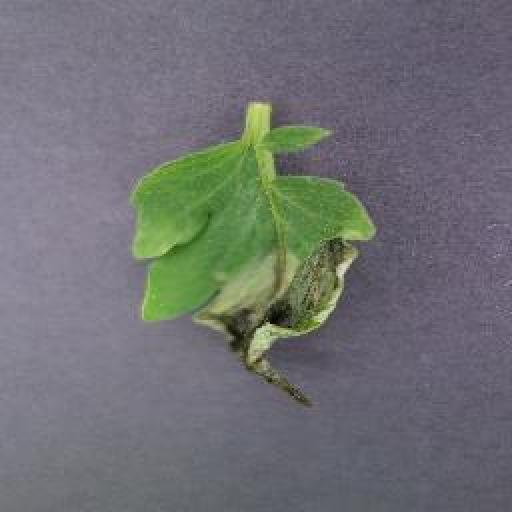Late Blight: (127, 109, 377, 416)
